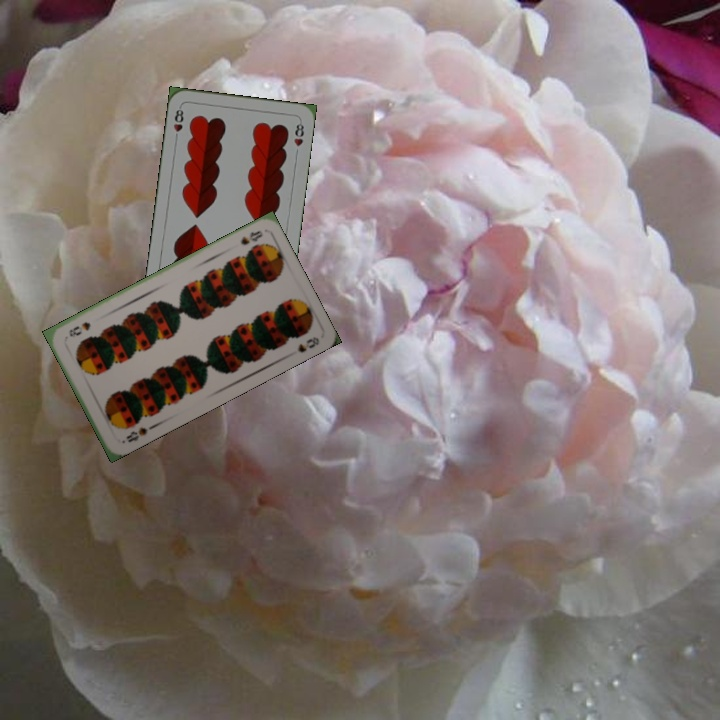H8: (170, 103, 186, 143)
S8: (122, 422, 155, 445), (237, 226, 265, 248)
